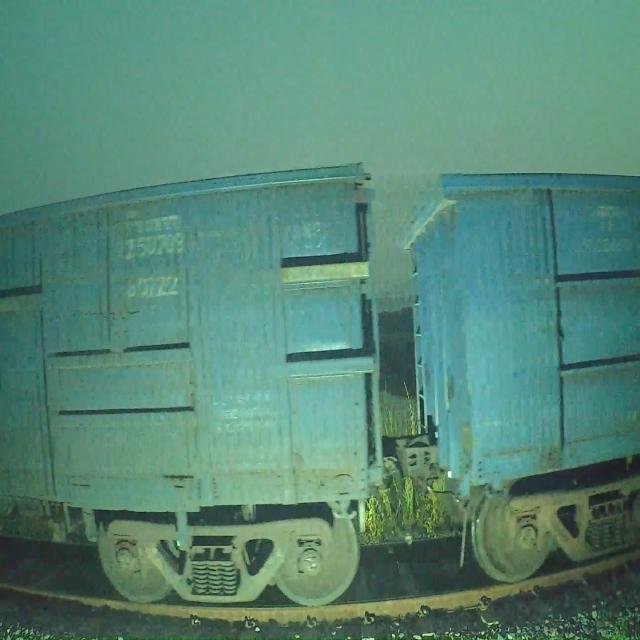WAgon-uic: (0, 158, 385, 608), (407, 171, 640, 584)
uic: (119, 232, 187, 304)
